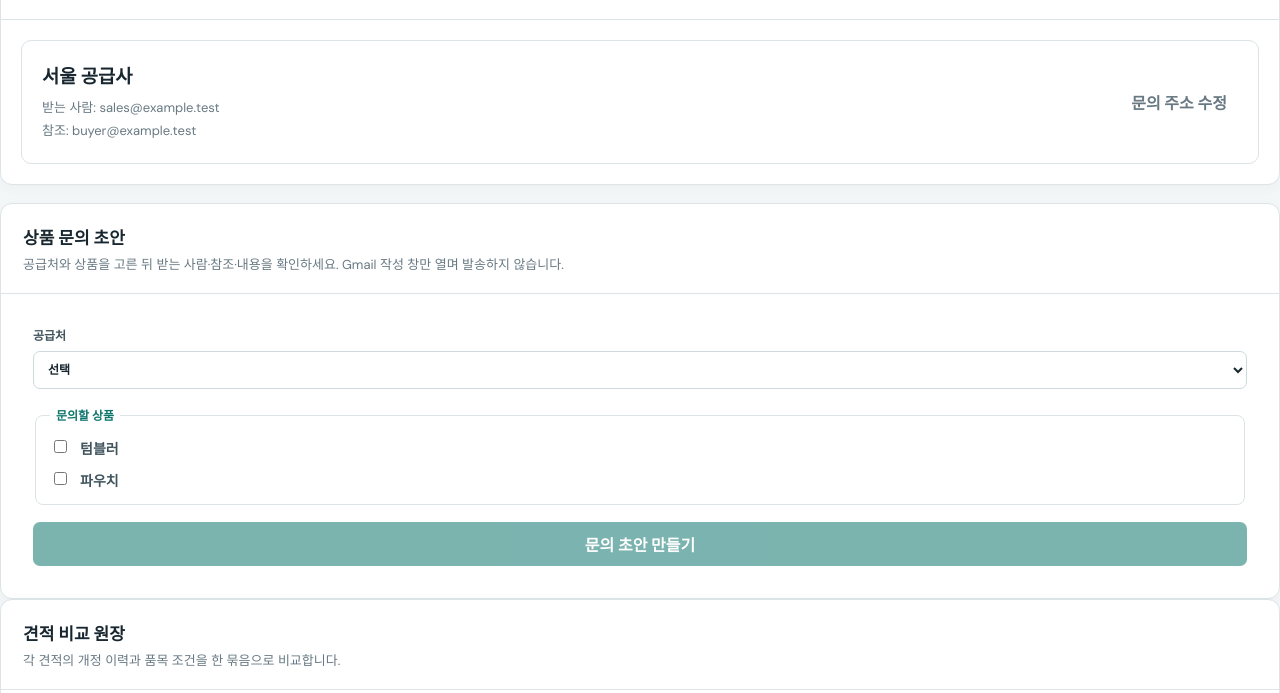
선택한 상품과 공급처 주소로 Gmail 문의 초안을 만들고 본문 수정을 반영한다
Later steps or results of the test are not shown.
(page scrolled)
Expected: the link "Gmail 작성 창 열기" is not shown
Select "서울 공급사" in the dropdown labelled "공급처". click: [640, 370]
box: [33, 351, 1247, 389]
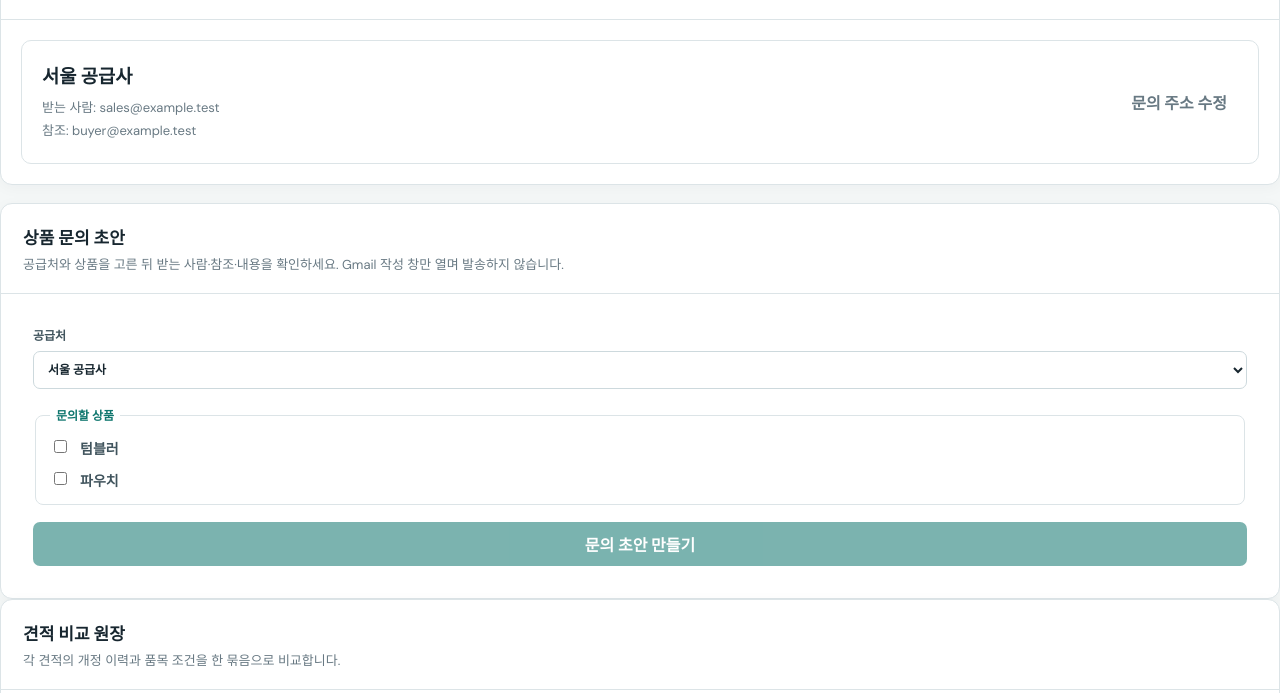
Click the checkbox labelled "텀블러". click: [60, 446]
box: [54, 440, 67, 453]
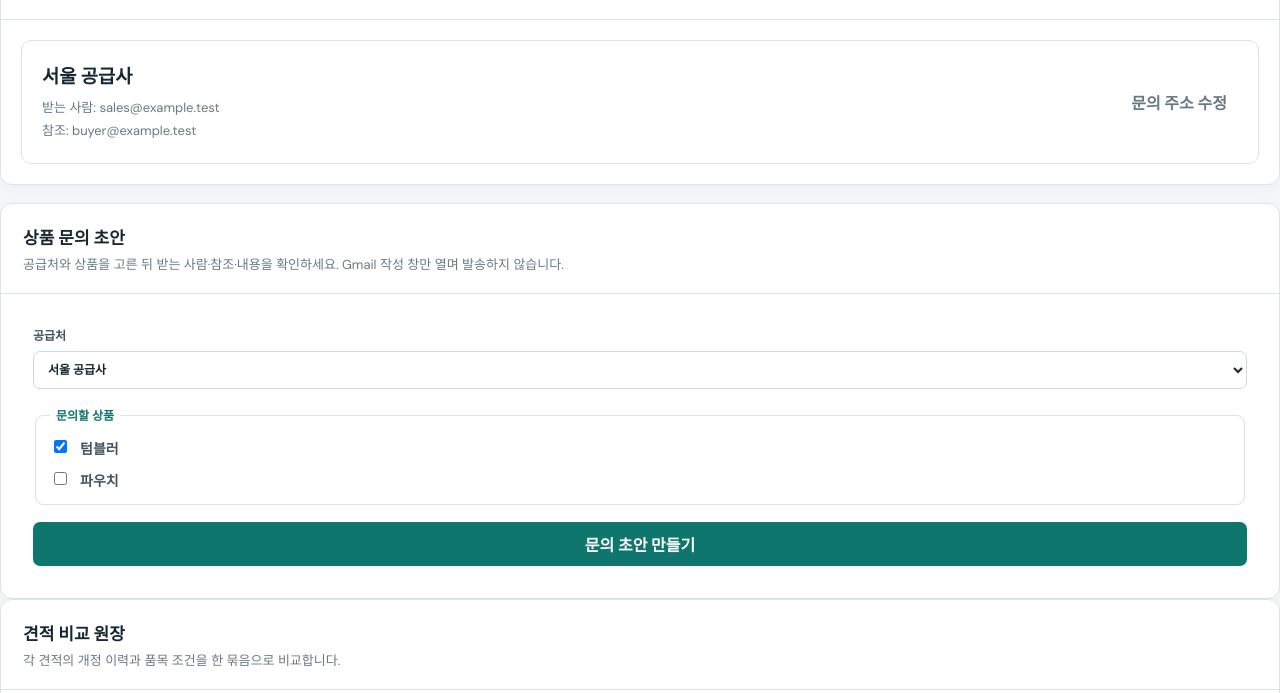
Click the checkbox labelled "파우치". click: [60, 478]
box: [54, 472, 67, 485]
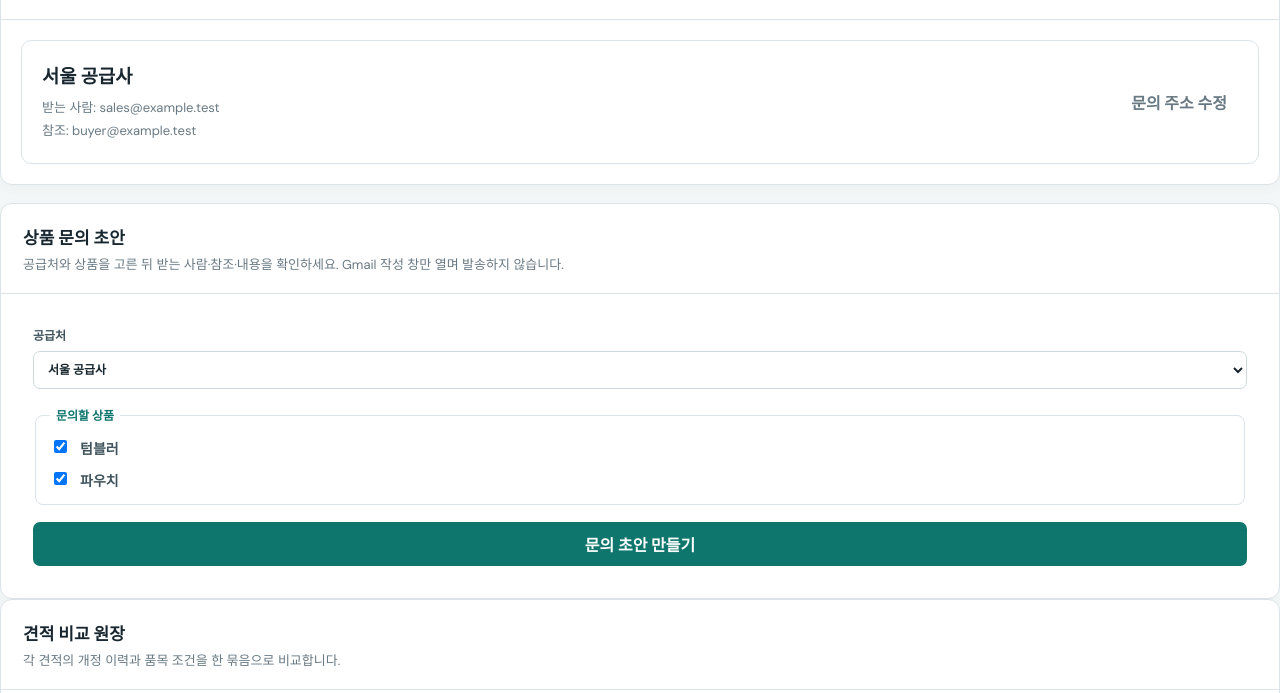
Click the button "문의 초안 만들기". click: [640, 544]
box: [33, 522, 1247, 566]
(page scrolled)
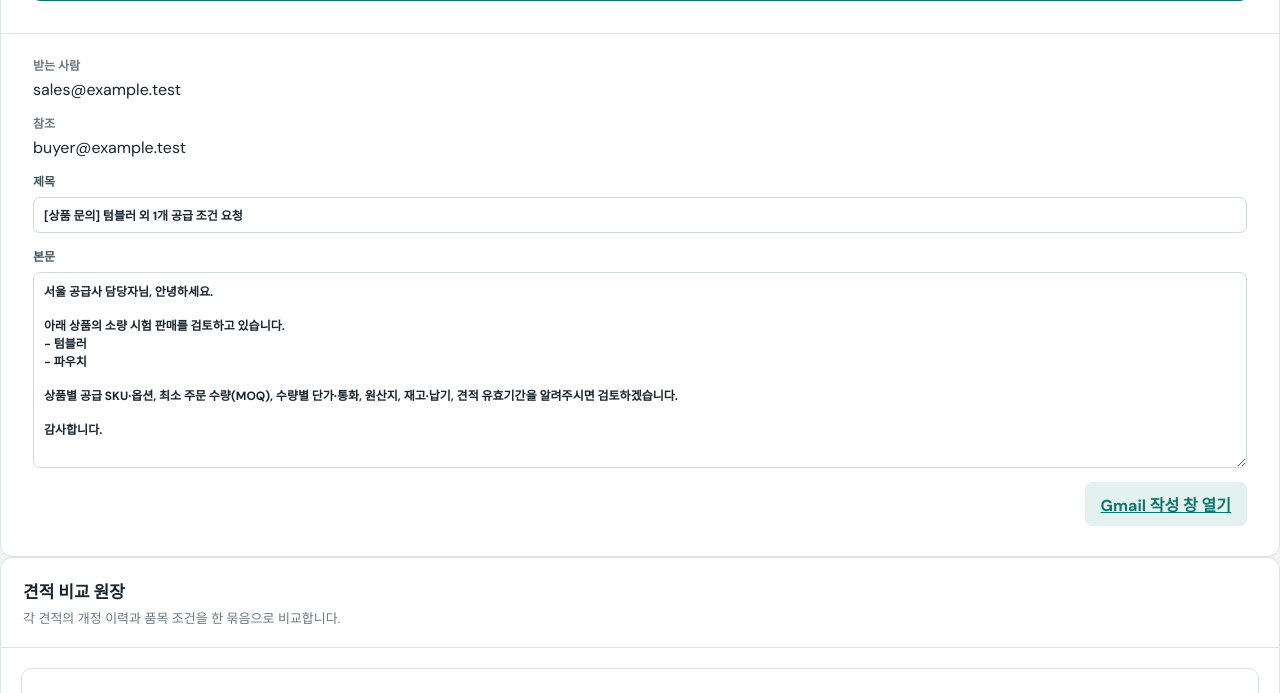
Now the text "sales@example.test" is shown, box [33, 79, 181, 100]
Now the text "buyer@example.test" is shown, box [33, 137, 186, 158]
